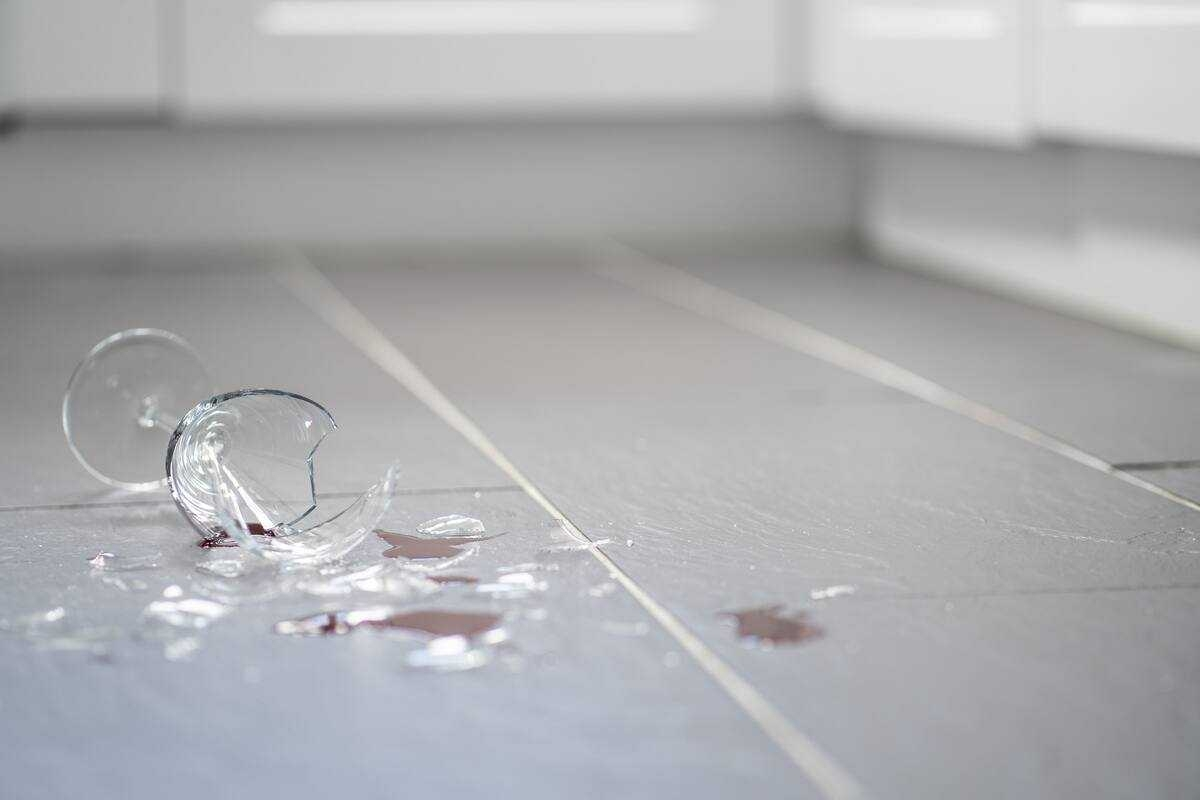glass: (50, 315, 411, 572)
